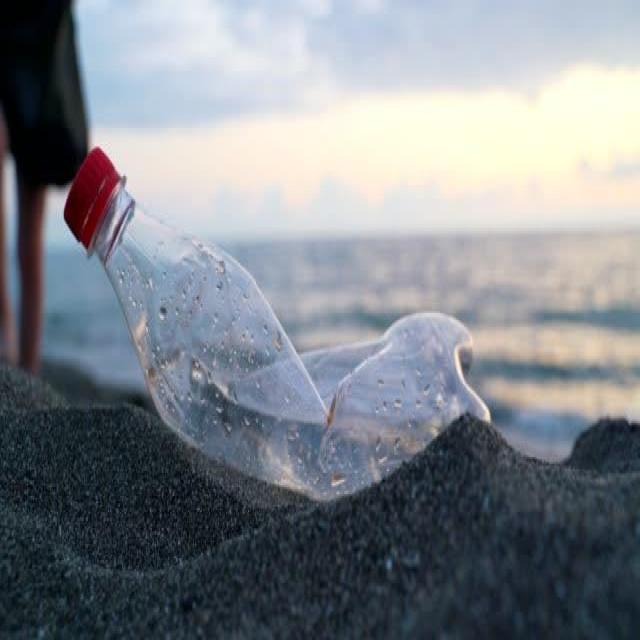bottle: (49, 123, 498, 504)
